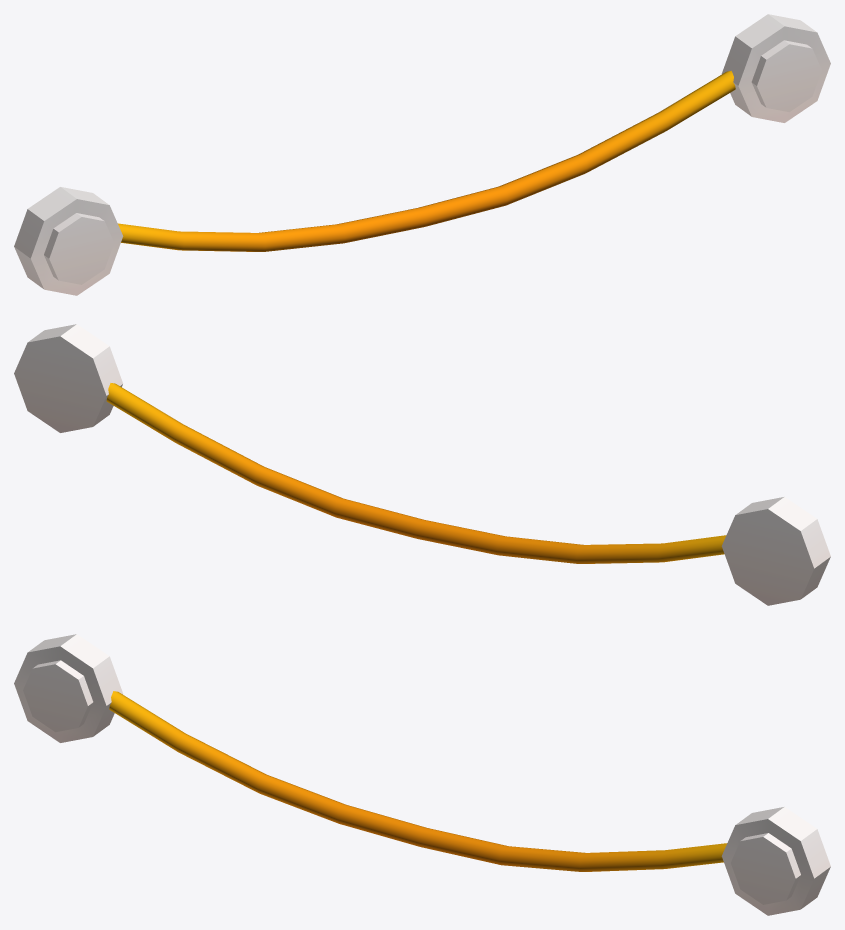
3 renders of one model, top to bottom at view 1: azimuth 30°, elevation 25°; view 2: azimuth 150°, elevation 25°; view 3: azimuth 330°, elevation 25°, orthographic.
Parts seen in each view (by area): view 1: lv4; view 2: lv4; view 3: lv4.
Part boxes in pixels (bbox=[...]): lv4: bbox=[14, 14, 830, 295]; lv4: bbox=[14, 324, 830, 605]; lv4: bbox=[14, 634, 830, 915].
Bounding box in the file's own units: 36.9 × 5.35 × 1.71.
Materials: 1 (1 with a texture image).
